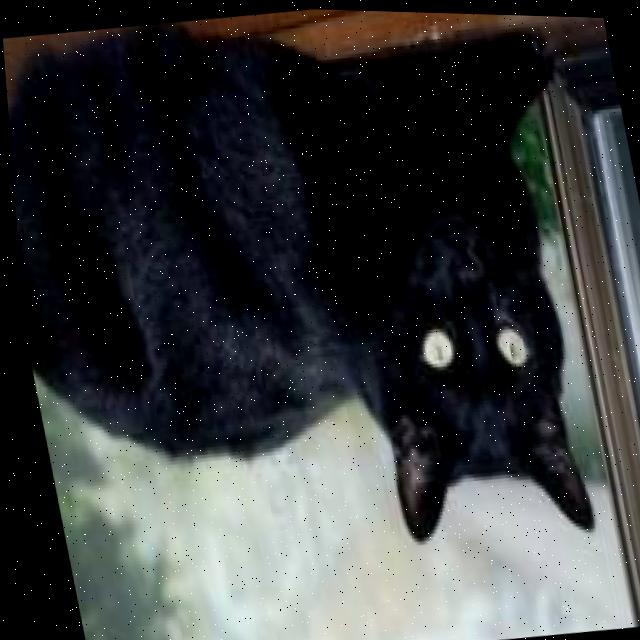Bombay: (0, 0, 640, 599)
